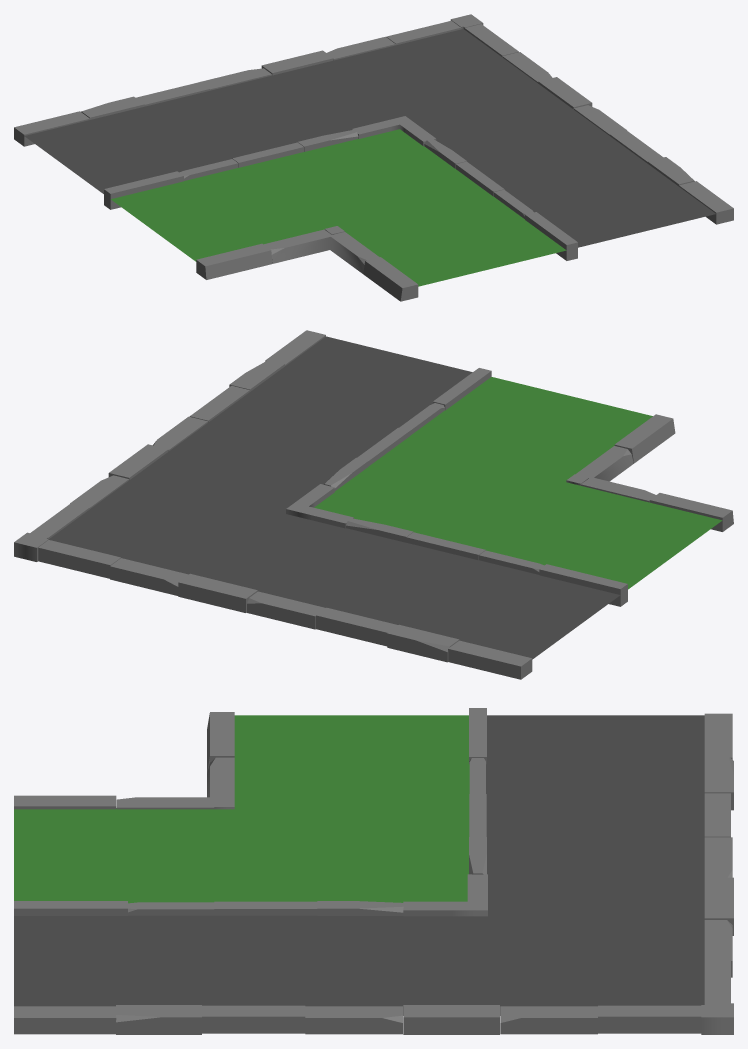
Rendered from SM_pedestrian_walk_suburbs_03.fbx.
3 views of the same model, one above another, from view 1: azimuth 30°, elevation 25°; view 2: azimuth 150°, elevation 25°; view 3: azimuth 270°, elevation 25° (orthographic). The views are drawn at different scales.
Parts seen in each view (by area): view 1: Object180; view 2: Object180; view 3: Object180.
Part boxes in pixels (x1=…): Object180: x1=14, y1=14, x2=733, y2=301; Object180: x1=14, y1=330, x2=733, y2=679; Object180: x1=14, y1=708, x2=733, y2=1034.
Bounding box in the file's own units: 289 × 9.66 × 288.
